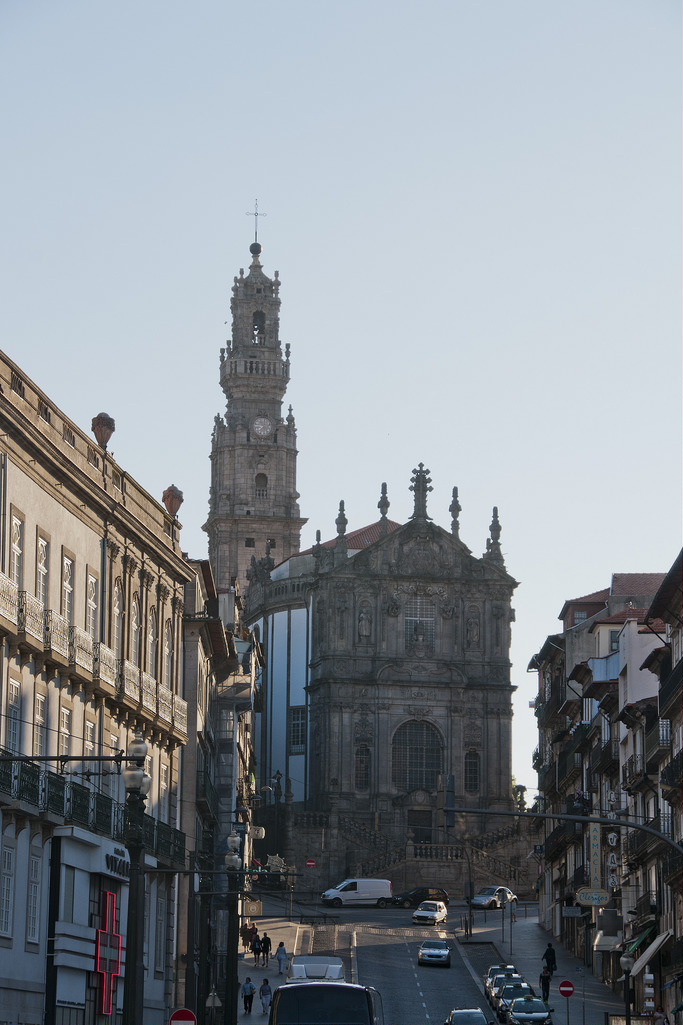clerigos: (202, 201, 309, 638)
